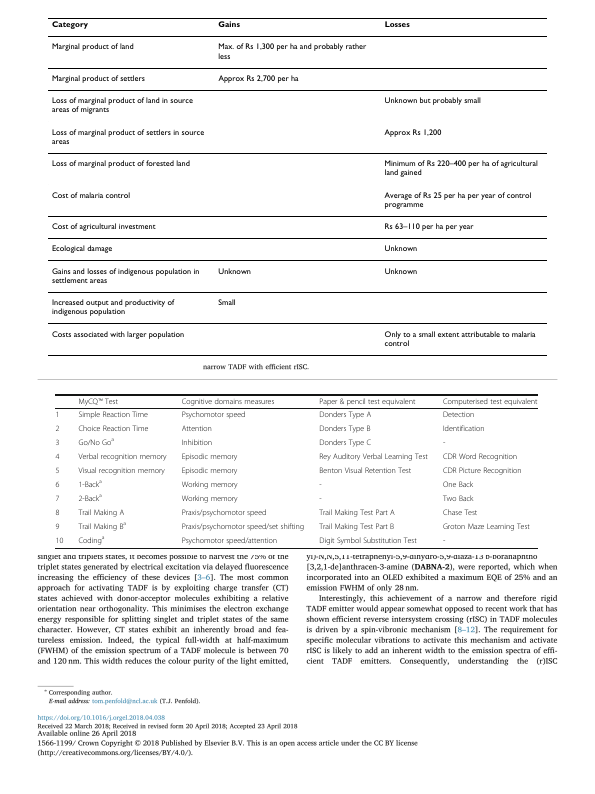borderless: (47, 16, 547, 355), (55, 393, 538, 548)
cell: (50, 128, 205, 147), (383, 159, 538, 178), (383, 330, 536, 349), (217, 43, 367, 62), (50, 267, 200, 286), (383, 191, 532, 210), (50, 96, 193, 115), (50, 298, 175, 317), (50, 159, 190, 169), (50, 330, 185, 340), (181, 522, 305, 532), (318, 452, 429, 462), (50, 222, 156, 232), (318, 536, 418, 546), (383, 96, 481, 106), (181, 536, 278, 546), (50, 74, 145, 84), (318, 466, 412, 476), (383, 222, 474, 232), (77, 452, 167, 462), (77, 466, 166, 476), (442, 522, 531, 532), (318, 397, 416, 406), (442, 397, 538, 406), (181, 508, 267, 518), (181, 397, 275, 406), (217, 74, 299, 84), (50, 191, 131, 201), (442, 466, 523, 476), (318, 508, 396, 518), (318, 522, 395, 532), (442, 452, 518, 462), (50, 43, 134, 52), (77, 410, 149, 420), (77, 424, 149, 434), (181, 410, 246, 420), (77, 520, 127, 532), (383, 128, 442, 138), (181, 480, 239, 490), (181, 494, 239, 504), (181, 452, 238, 462), (181, 466, 238, 476), (50, 245, 113, 254), (318, 410, 372, 420), (318, 438, 372, 448), (318, 424, 371, 434), (77, 508, 125, 518), (77, 436, 115, 448), (442, 424, 485, 434), (77, 397, 119, 406), (442, 508, 478, 518), (383, 267, 418, 277), (50, 21, 88, 30), (217, 267, 251, 277), (77, 534, 105, 546), (442, 410, 475, 420), (181, 424, 213, 434), (181, 438, 213, 448), (442, 480, 474, 490), (442, 494, 474, 504), (383, 245, 418, 254), (77, 478, 103, 490), (77, 492, 103, 504), (383, 21, 410, 30), (217, 21, 240, 30), (217, 298, 236, 308), (55, 536, 64, 546), (54, 410, 60, 420), (54, 424, 60, 434), (54, 438, 60, 448), (55, 452, 60, 462), (55, 466, 60, 476), (55, 480, 60, 490), (318, 480, 323, 490), (55, 494, 60, 504), (318, 494, 323, 504), (55, 508, 60, 518), (55, 522, 60, 532), (442, 438, 446, 448), (442, 536, 446, 546)
